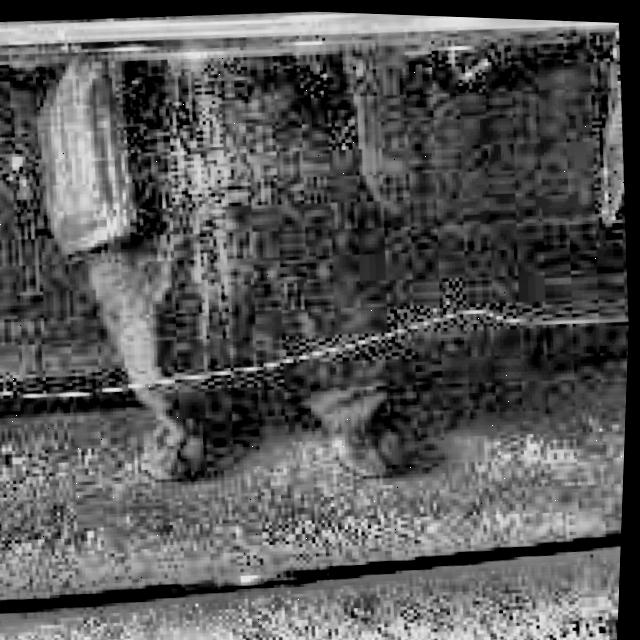door_scratch: (0, 272, 630, 432)
